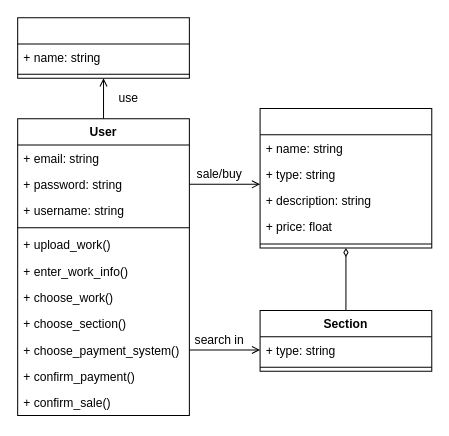
Some shapes in this 449 by 436 pixel diagram are drawn without their labels. Here are the shapes that lost their labels. From the top down, the box of each, then its label:
(17, 17, 189, 78): Payment system
(259, 108, 432, 248): Work
